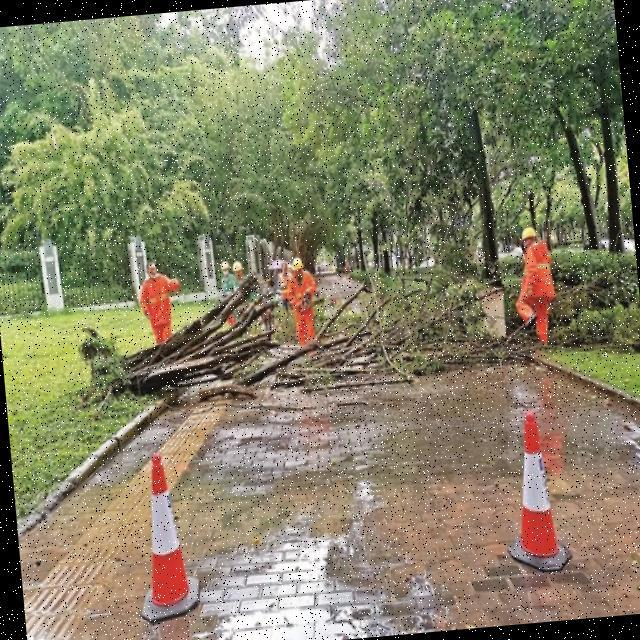fallen_object: (72, 264, 282, 402), (185, 276, 408, 402)
